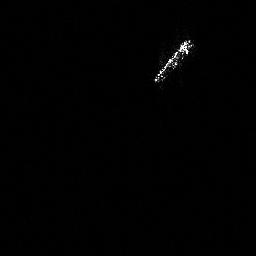ship: (152, 37, 197, 87)
